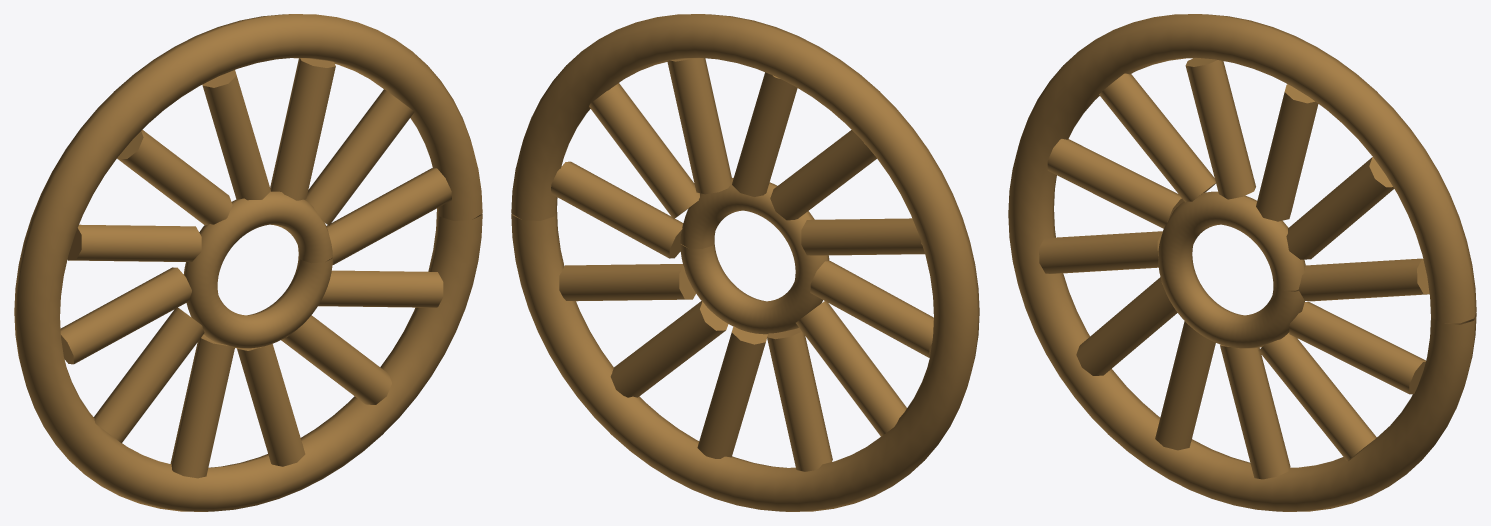
File: steam-turbine-v01.glb
3 views of the same model, side by side, from view 1: azimuth 30°, elevation 25°; view 2: azimuth 150°, elevation 25°; view 3: azimuth 330°, elevation 25° (orthographic).
Visible parts, largest first — view 1: Steam Bronze • forged warm; view 2: Steam Bronze • forged warm; view 3: Steam Bronze • forged warm.
Boxes of the visible parts, <box> form: Steam Bronze • forged warm: <box>14,14,482,511</box>; Steam Bronze • forged warm: <box>511,14,979,511</box>; Steam Bronze • forged warm: <box>1008,14,1476,511</box>.
Size of the model in its own units: 3.62 by 3.62 by 0.41.
